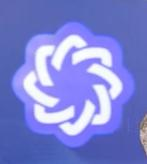ABB: (21, 32, 125, 138)
